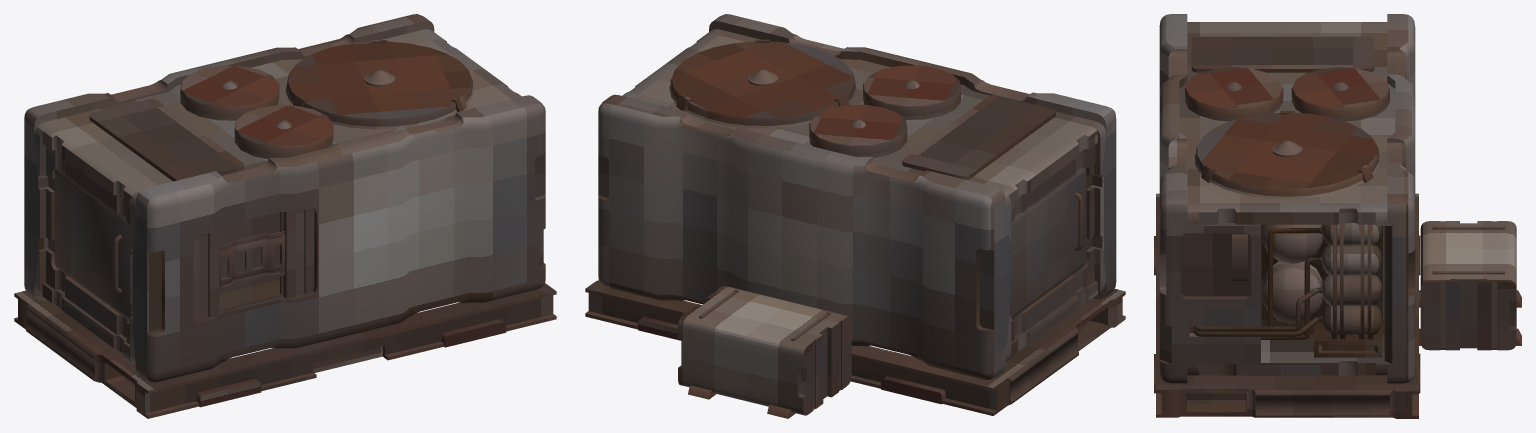
The model's file is Aircondition_Unit_Rooftop_A.FBX.
The picture shows the model from 3 angles, left to right: view 1: azimuth 30°, elevation 25°; view 2: azimuth 150°, elevation 25°; view 3: azimuth 270°, elevation 25°; orthographic projection.
Visible parts, largest first — view 1: Geometry_Aircondition_Unit_Rooftop_A_LOD00; view 2: Geometry_Aircondition_Unit_Rooftop_A_LOD00; view 3: Geometry_Aircondition_Unit_Rooftop_A_LOD00.
Boxes of the visible parts, left/top/right/bottom form: Geometry_Aircondition_Unit_Rooftop_A_LOD00: left=14, top=14, right=556, bottom=418; Geometry_Aircondition_Unit_Rooftop_A_LOD00: left=585, top=14, right=1125, bottom=418; Geometry_Aircondition_Unit_Rooftop_A_LOD00: left=1154, top=14, right=1521, bottom=418.
Size of what is drawn, in the model's own units: 349 by 184 by 271.
